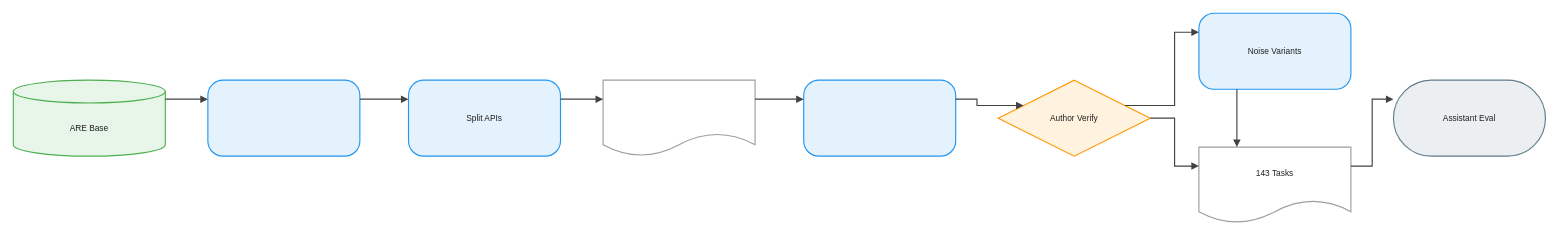
Some shapes in this 1560 by 237 pixel diagram are drawn without their labels. The box of each missing label's shape, as (x1, y1, x2, y2) in pixels:
FSM Apps: (207, 79, 360, 156)
LLM Drafts: (803, 79, 956, 156)
Scenarios: (602, 79, 755, 156)
